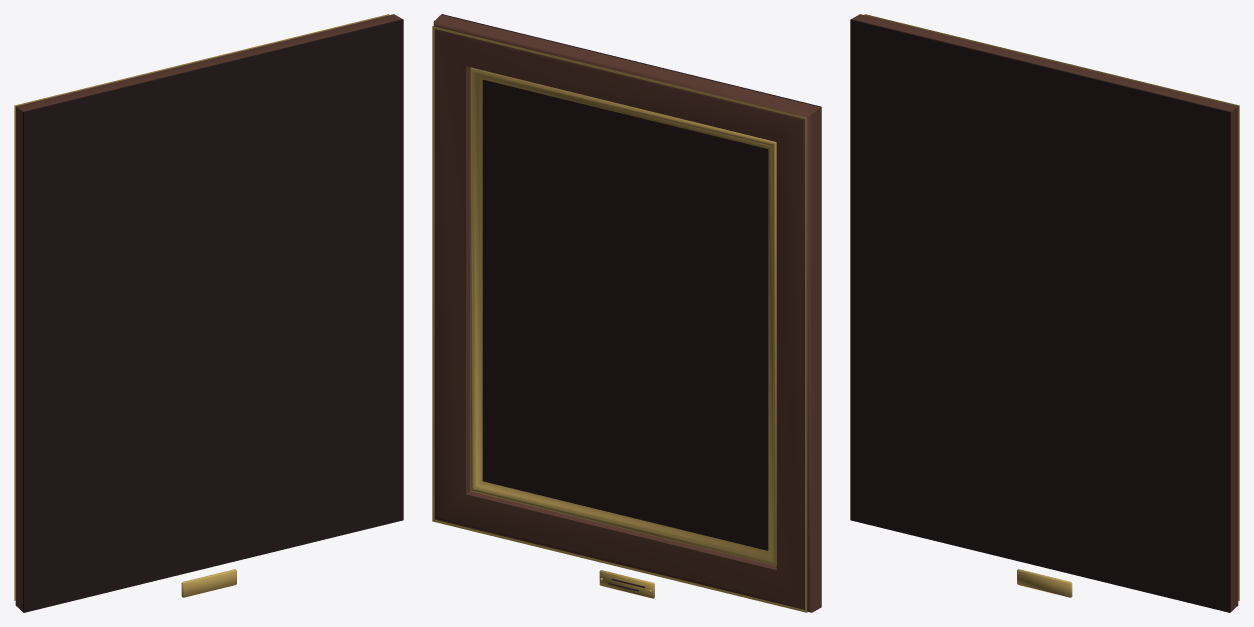
File: walnut_gold_port.glb
3 views of the same model, side by side, from view 1: azimuth 30°, elevation 25°; view 2: azimuth 150°, elevation 25°; view 3: azimuth 330°, elevation 25° (orthographic).
Parts seen in each view (by area): view 1: walnut_gold_port; view 2: walnut_gold_port; view 3: walnut_gold_port.
Boxes of the visible parts, x1,y1,x2,y2 form: walnut_gold_port: [14, 14, 403, 612]; walnut_gold_port: [432, 14, 821, 612]; walnut_gold_port: [850, 14, 1239, 612].
Size of what is drawn, in the model's own units: 0.966 by 1.28 by 0.053.
